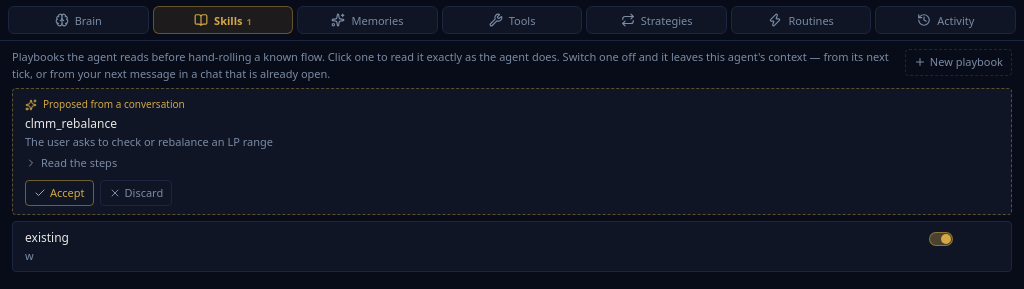
Test: the proposed playbook › discards without touching the library
Step 1. Click the button "Discard" → {"x": 136, "y": 193}, box [100,180,172,206]
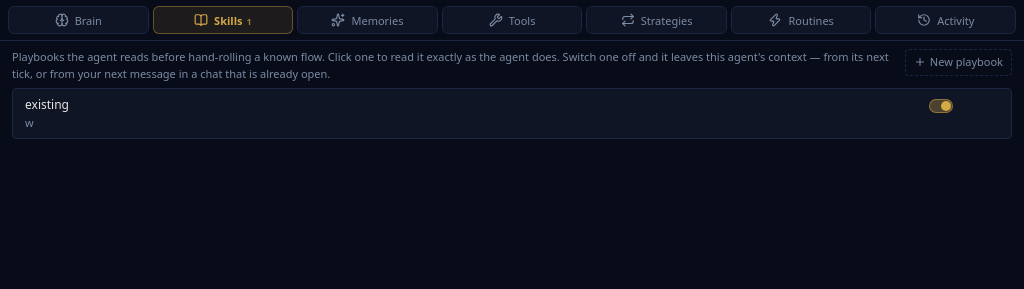
Expected: the text "existing" is shown, [25,97,69,113]
Result: the text "Proposed from a conversation" is gone
